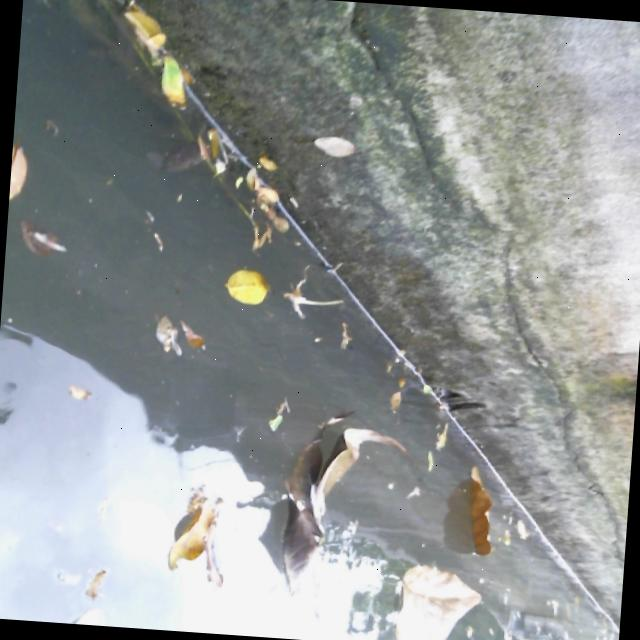Big-leaf: (257, 404, 407, 607), (146, 475, 235, 588), (375, 557, 487, 640), (448, 460, 503, 554)
Small-leaf: (100, 0, 166, 48), (149, 318, 215, 364), (7, 214, 73, 260), (147, 54, 185, 112), (7, 145, 41, 205), (216, 266, 269, 303), (416, 412, 451, 452), (385, 369, 410, 417), (84, 560, 104, 612), (331, 322, 358, 347), (67, 0, 102, 8)
